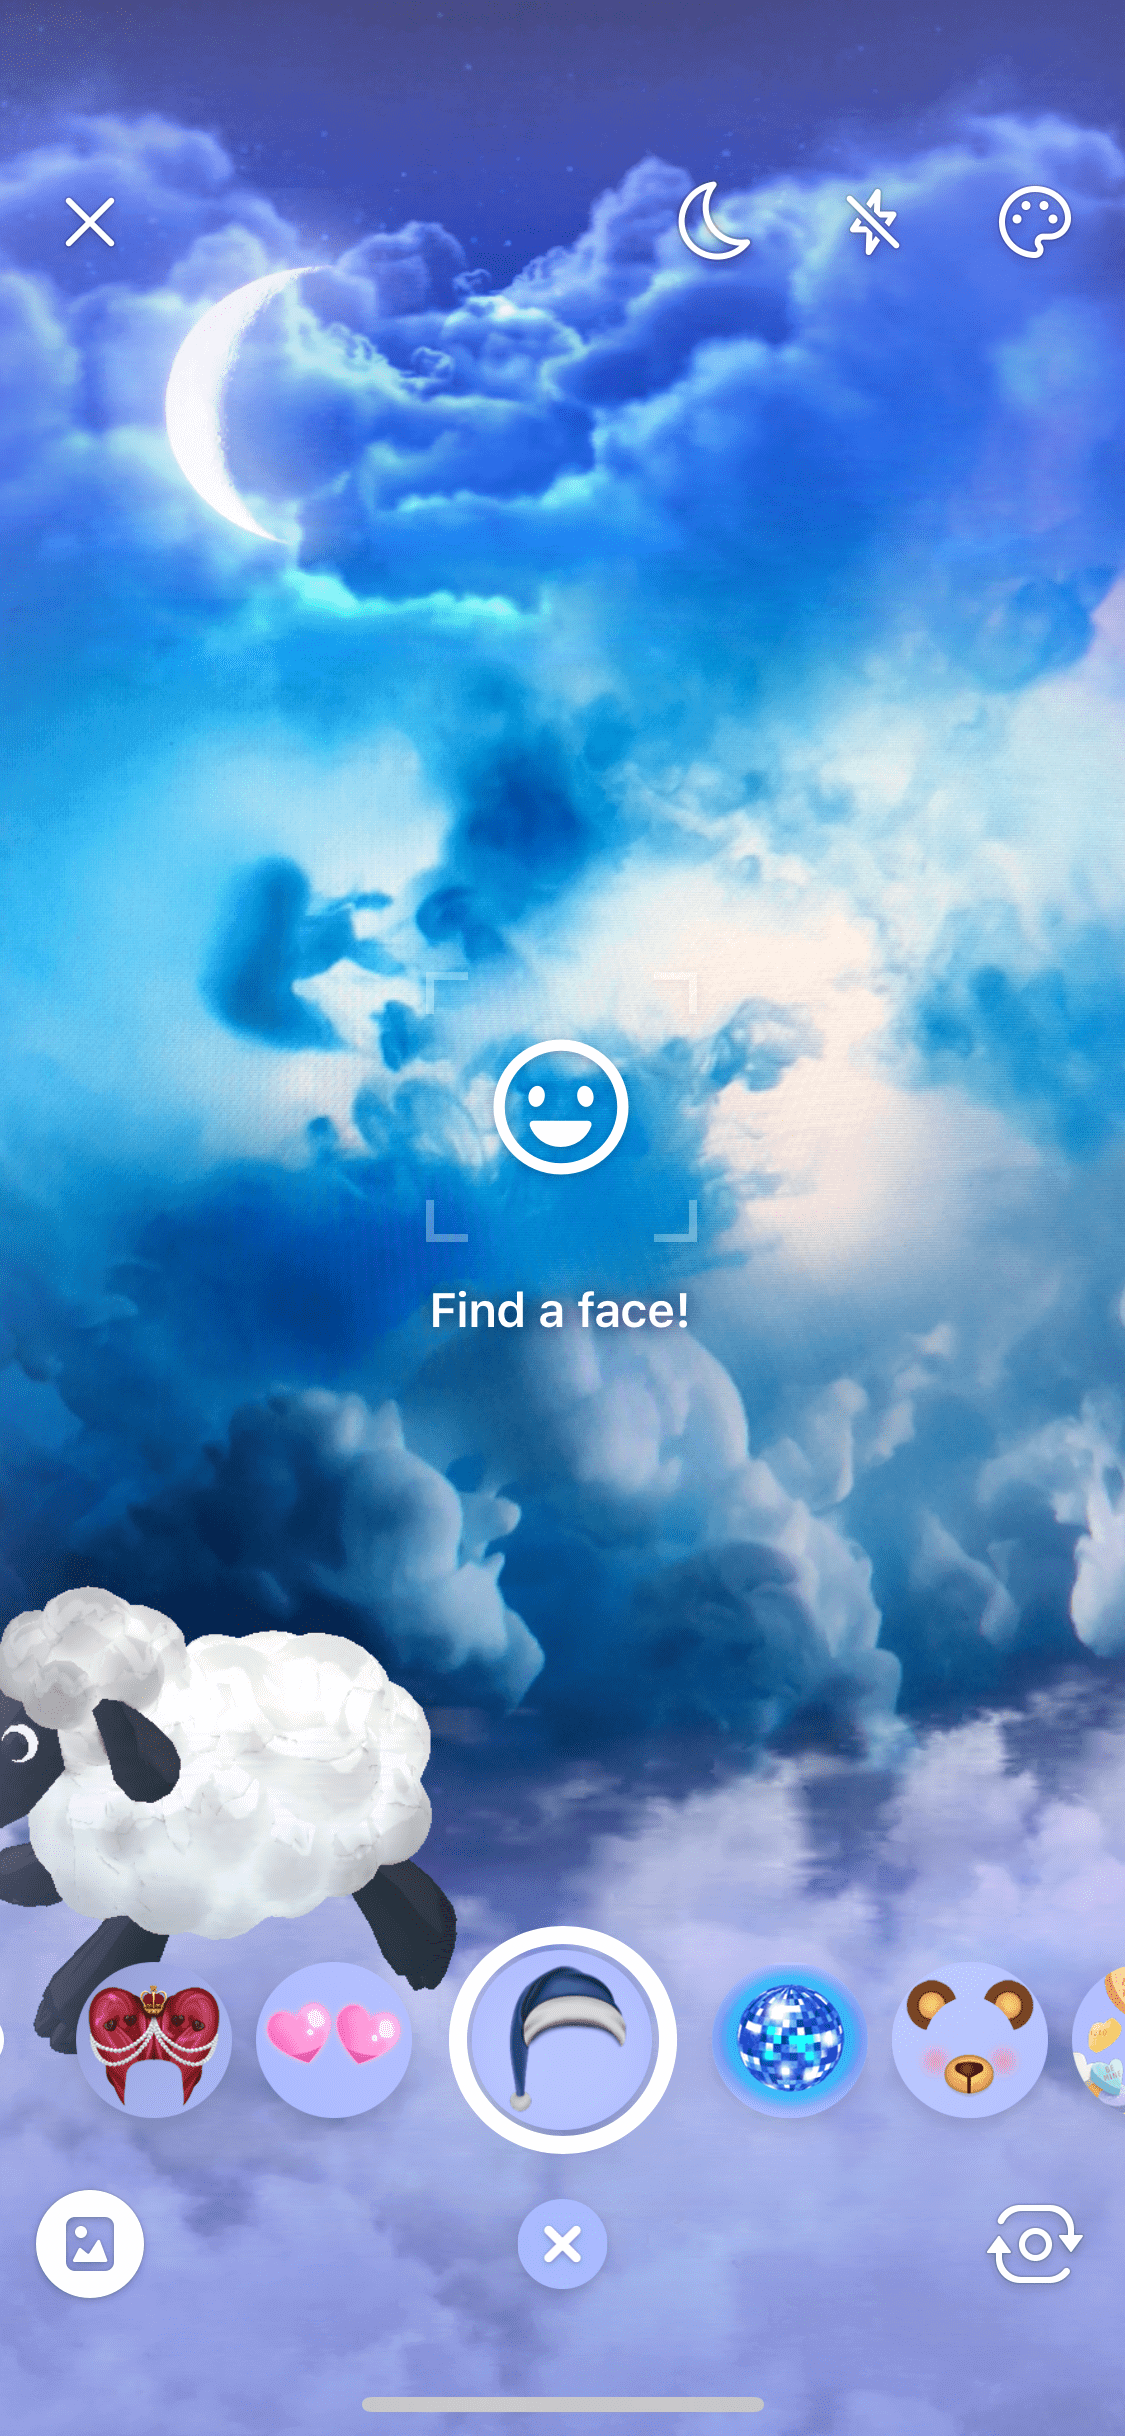FAB (Floating Action Button): (22, 2170, 169, 2313), (30, 152, 162, 286), (651, 152, 772, 287), (967, 2180, 1092, 2305), (499, 2184, 628, 2305), (974, 157, 1091, 287), (814, 154, 925, 287)
